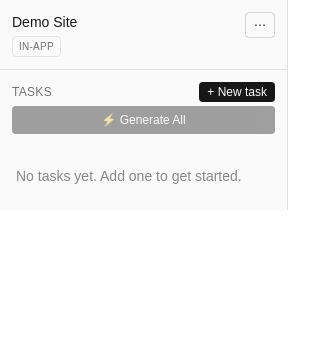
Scenario: Sidebar accessible names (BI-035.3) › associates the visible Project label with the session select
This screenshot has width=320, height=350.
Click the button named "Project menu": (260, 25) [245, 12, 275, 38]
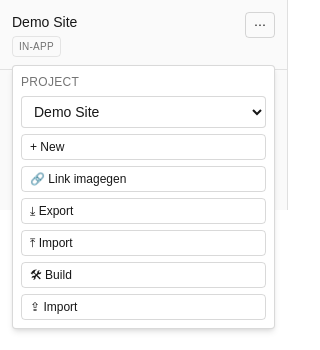
expect the dropdown labelled "Project" is shown: met, box [21, 96, 266, 128]
